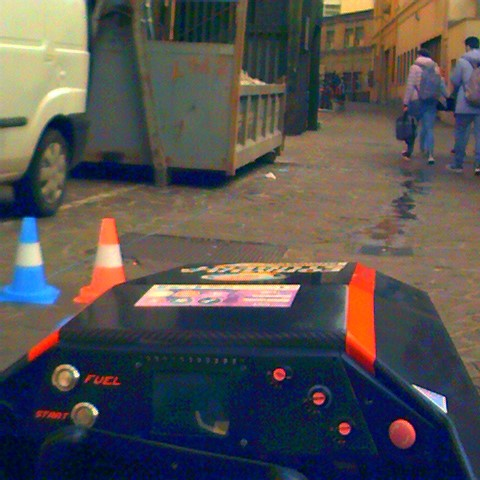cone: (1, 216, 60, 306)
